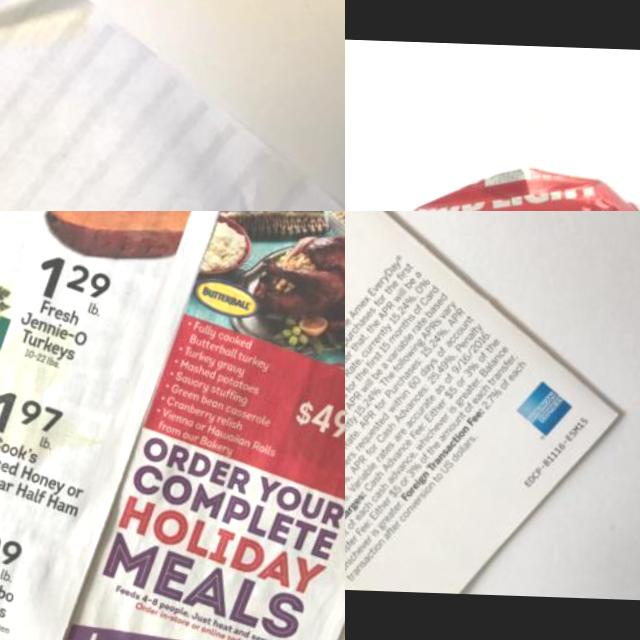lata: (385, 159, 640, 211)
papel: (0, 211, 345, 640), (345, 211, 631, 599), (0, 0, 345, 211)
